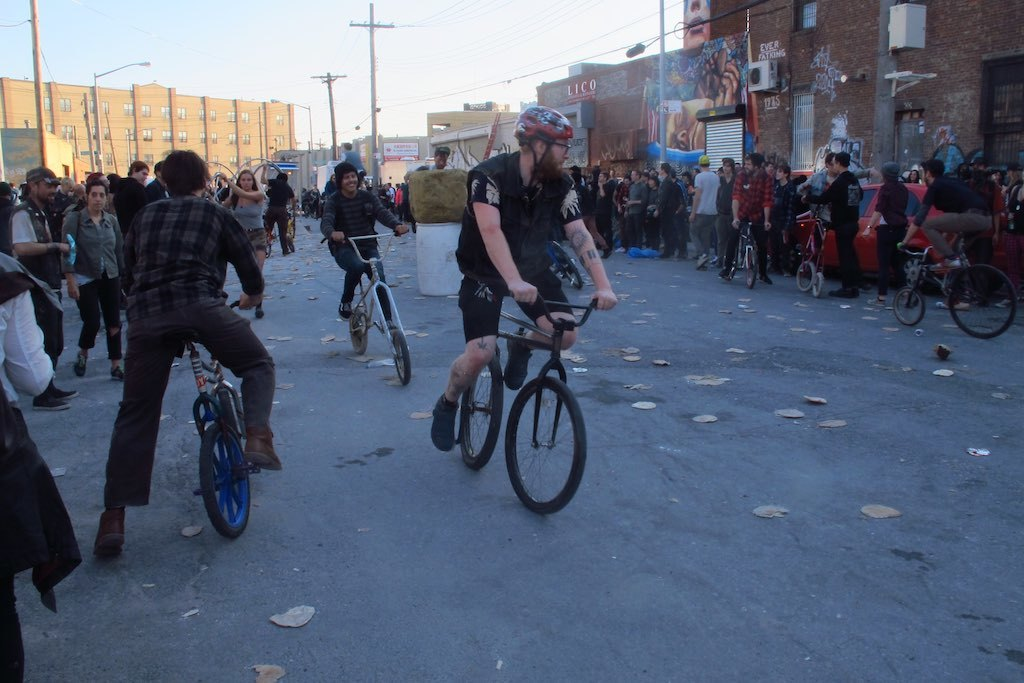Bike_toward: (420, 288, 598, 532)
